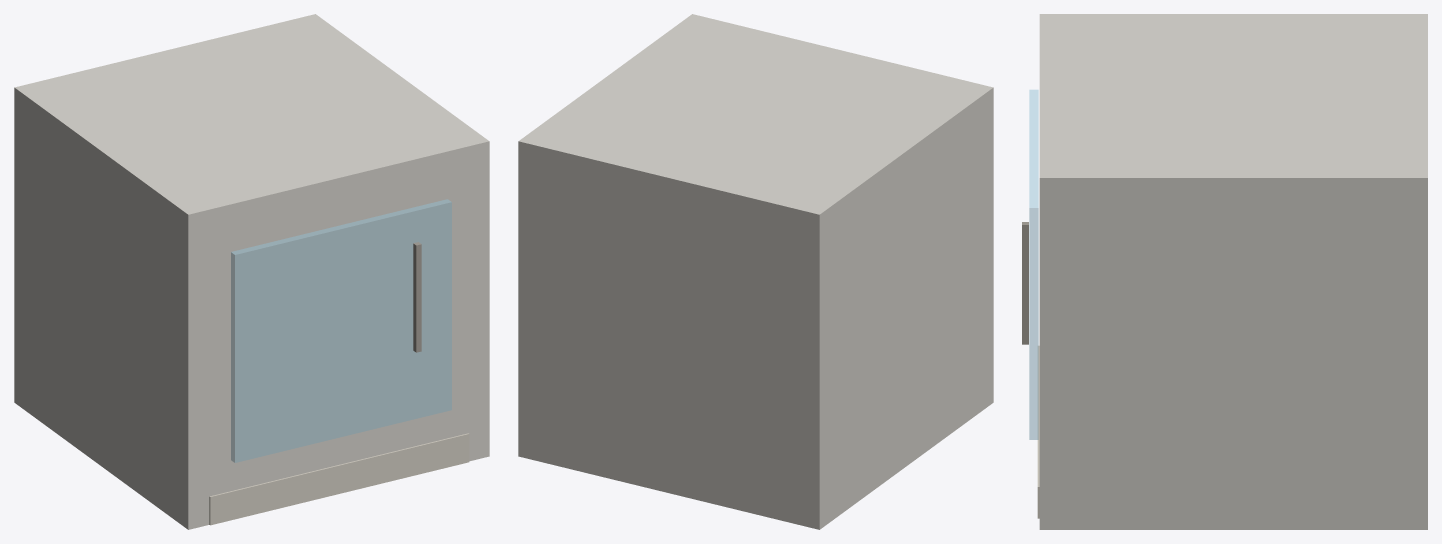
Rendered from flatBaseGlass.glb.
The picture shows the model from 3 angles, left to right: view 1: azimuth 30°, elevation 25°; view 2: azimuth 150°, elevation 25°; view 3: azimuth 270°, elevation 25°; orthographic projection. The views are drawn at different scales.
Visible parts, largest first — view 1: body, glassDoor, toeKick, handle; view 2: body; view 3: body, glassDoor, handle, toeKick.
Boxes of the visible parts, x1,y1,x2,y2 form: body: (14,14,489,529); glassDoor: (231,199,451,462); toeKick: (209,433,469,525); handle: (413,242,421,352); body: (518,14,993,529); body: (1039,14,1427,529); glassDoor: (1029,89,1038,439); handle: (1022,222,1028,344); toeKick: (1037,345,1039,518).
Bounding box in the file's own units: 1 × 1 × 1.04.
